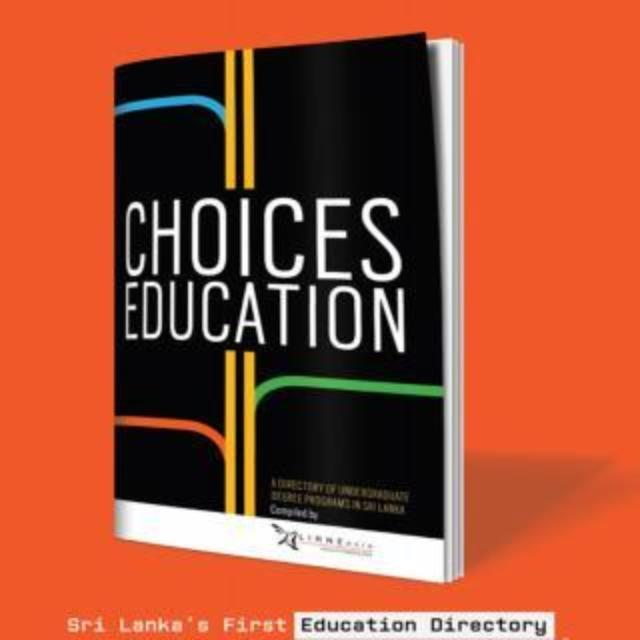book: (108, 10, 498, 612)
